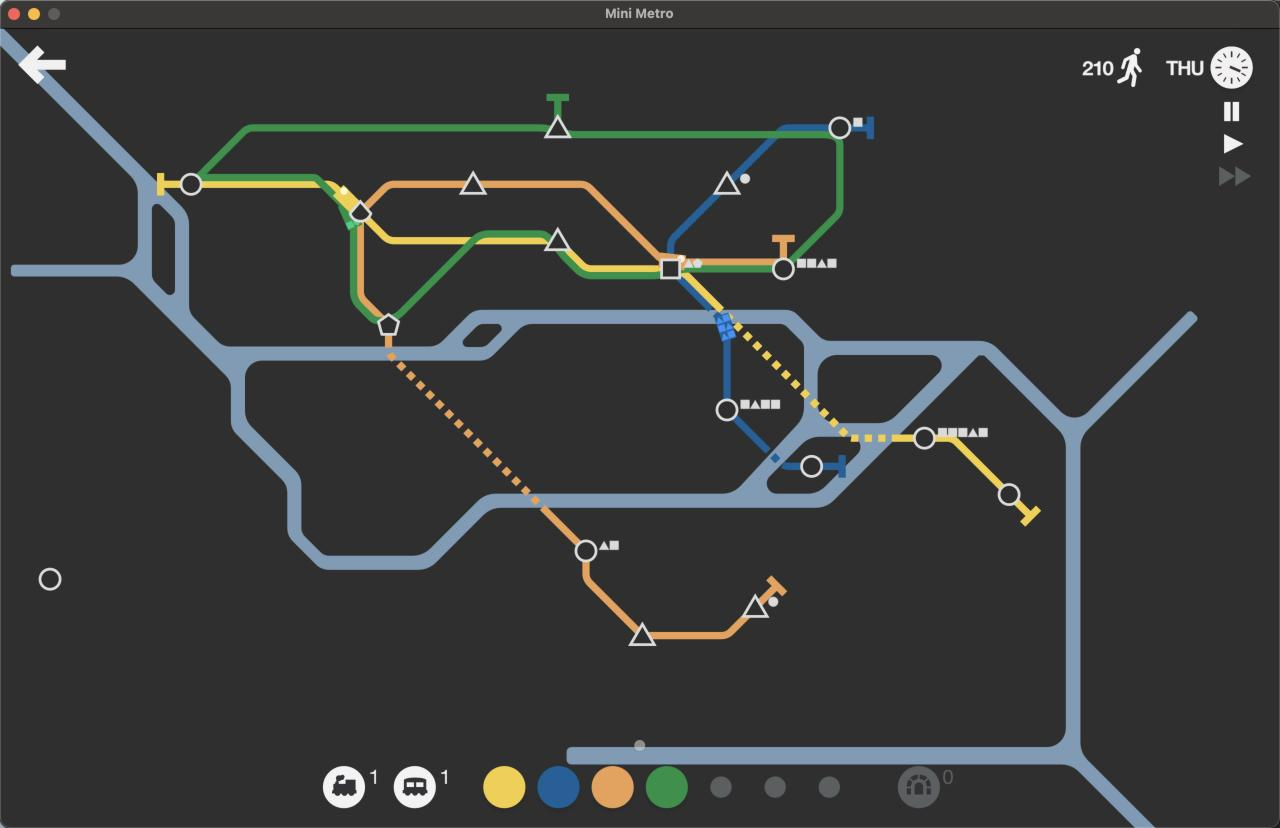CIRCLE: (37, 566, 63, 592), (573, 539, 598, 564), (828, 115, 852, 140), (800, 454, 824, 479), (715, 398, 739, 422), (772, 257, 796, 281), (180, 172, 203, 196), (998, 482, 1021, 506), (913, 426, 936, 449)
PENTAGON: (377, 312, 401, 338)
SQUARE: (660, 256, 683, 280)
TRIANGLE: (741, 592, 770, 620), (713, 169, 742, 196), (543, 113, 572, 139), (628, 621, 656, 647), (459, 170, 488, 195), (544, 226, 571, 252)
WEDGE: (350, 200, 373, 222)
